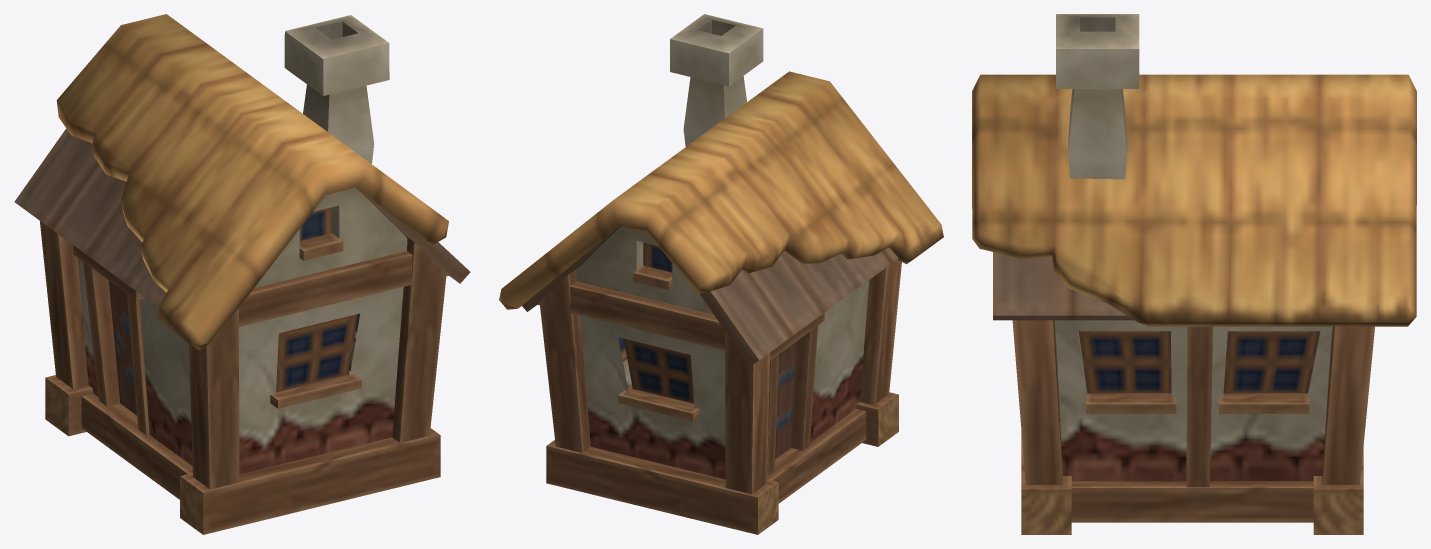
File: tadangal_house_1.FBX
3 renders of one model, left to right at view 1: azimuth 30°, elevation 25°; view 2: azimuth 150°, elevation 25°; view 3: azimuth 270°, elevation 25°, orthographic. The views are drawn at different scales.
Visible parts, largest first — view 1: polySurface2253; view 2: polySurface2253; view 3: polySurface2253.
Boxes of the visible parts, x1,y1,x2,y2 form: polySurface2253: [14, 14, 470, 534]; polySurface2253: [499, 14, 943, 534]; polySurface2253: [972, 14, 1416, 534].
Size of the model in its own units: 60.42 by 71.08 by 83.64.
